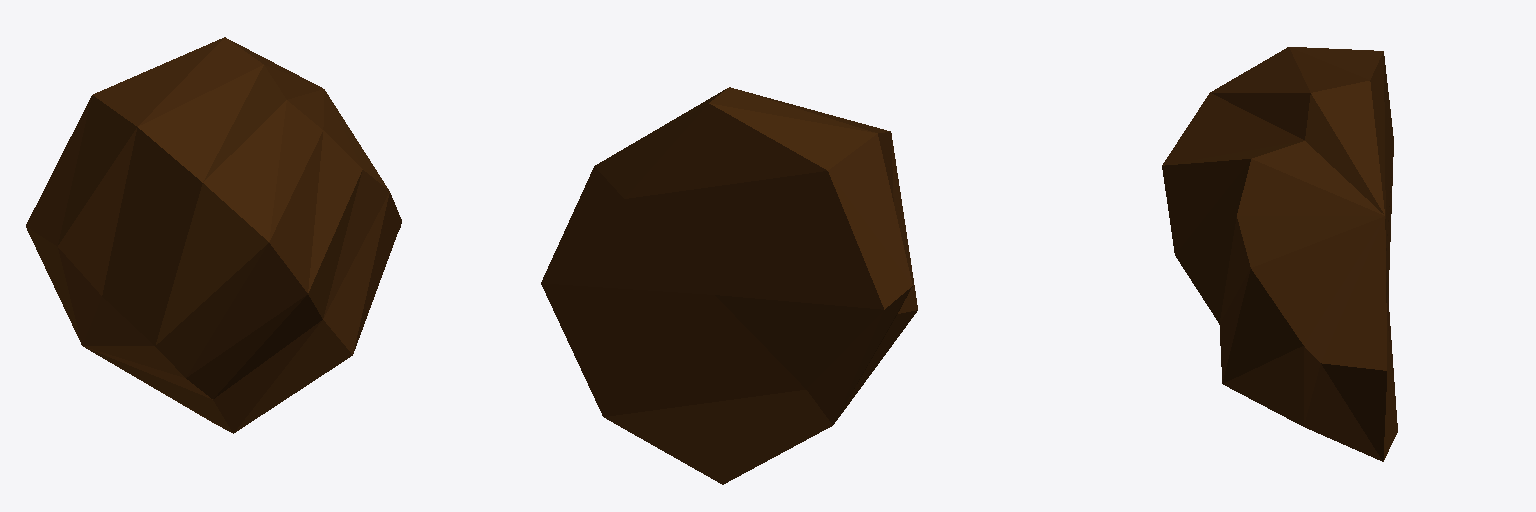
File: rock.obj
3 renders of one model, left to right at view 1: azimuth 30°, elevation 25°; view 2: azimuth 150°, elevation 25°; view 3: azimuth 270°, elevation 25°, orthographic.
Visible parts, largest first — view 1: rock; view 2: rock; view 3: rock.
Part boxes in pixels (bbox=[...]): rock: bbox=[26, 37, 401, 433]; rock: bbox=[541, 87, 917, 484]; rock: bbox=[1162, 47, 1397, 461].
Bounding box in the file's own units: 0.8778 × 0.8821 × 0.5175.